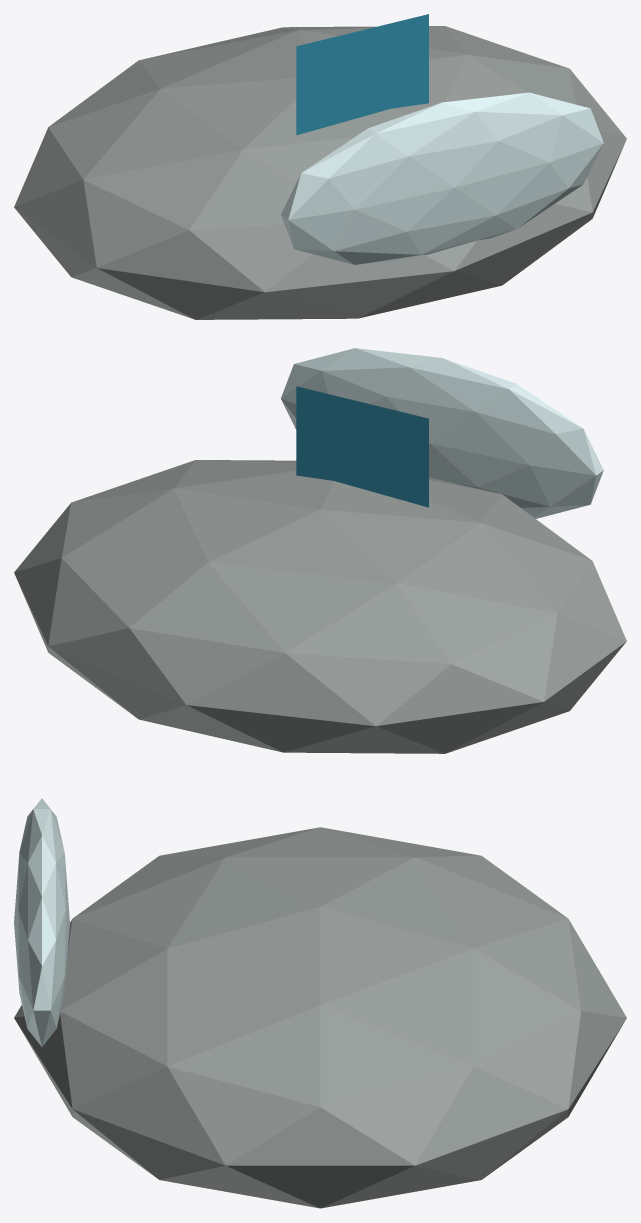
The model's file is atlas_waterfall.glb.
The picture shows the model from 3 angles, top to bottom: view 1: azimuth 30°, elevation 25°; view 2: azimuth 150°, elevation 25°; view 3: azimuth 270°, elevation 25°; orthographic projection. The views are drawn at different scales.
Parts seen in each view (by area): view 1: Waterfall_Cliff, Waterfall_Foam, Waterfall_Sheet; view 2: Waterfall_Cliff, Waterfall_Foam, Waterfall_Sheet; view 3: Waterfall_Cliff, Waterfall_Foam.
Part boxes in pixels (left/top/right/bottom): Waterfall_Cliff: left=14, top=26, right=626, bottom=319; Waterfall_Foam: left=281, top=92, right=603, bottom=264; Waterfall_Sheet: left=296, top=14, right=428, bottom=135; Waterfall_Cliff: left=14, top=460, right=626, bottom=753; Waterfall_Foam: left=281, top=348, right=603, bottom=518; Waterfall_Sheet: left=296, top=386, right=428, bottom=507; Waterfall_Cliff: left=14, top=827, right=626, bottom=1208; Waterfall_Foam: left=14, top=798, right=69, bottom=1046.
Bounding box in the file's own units: 7.99 × 3.9 × 7.
